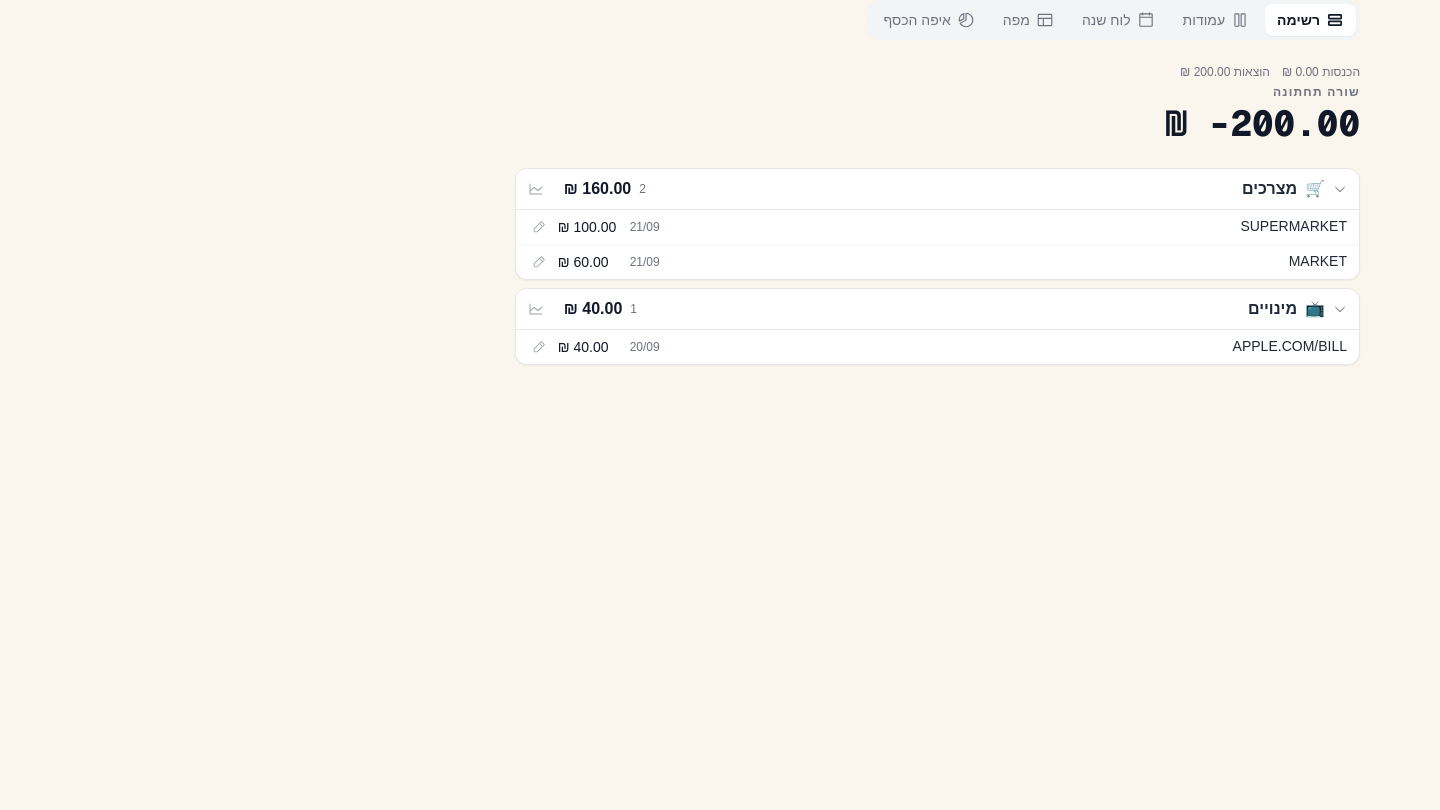
Test: ExpensesExplorer hidden expenses › lists hidden rows with their sum
Step 1. Click the text "SUPERMARKET" → (1294, 226), box [1240, 218, 1347, 234]
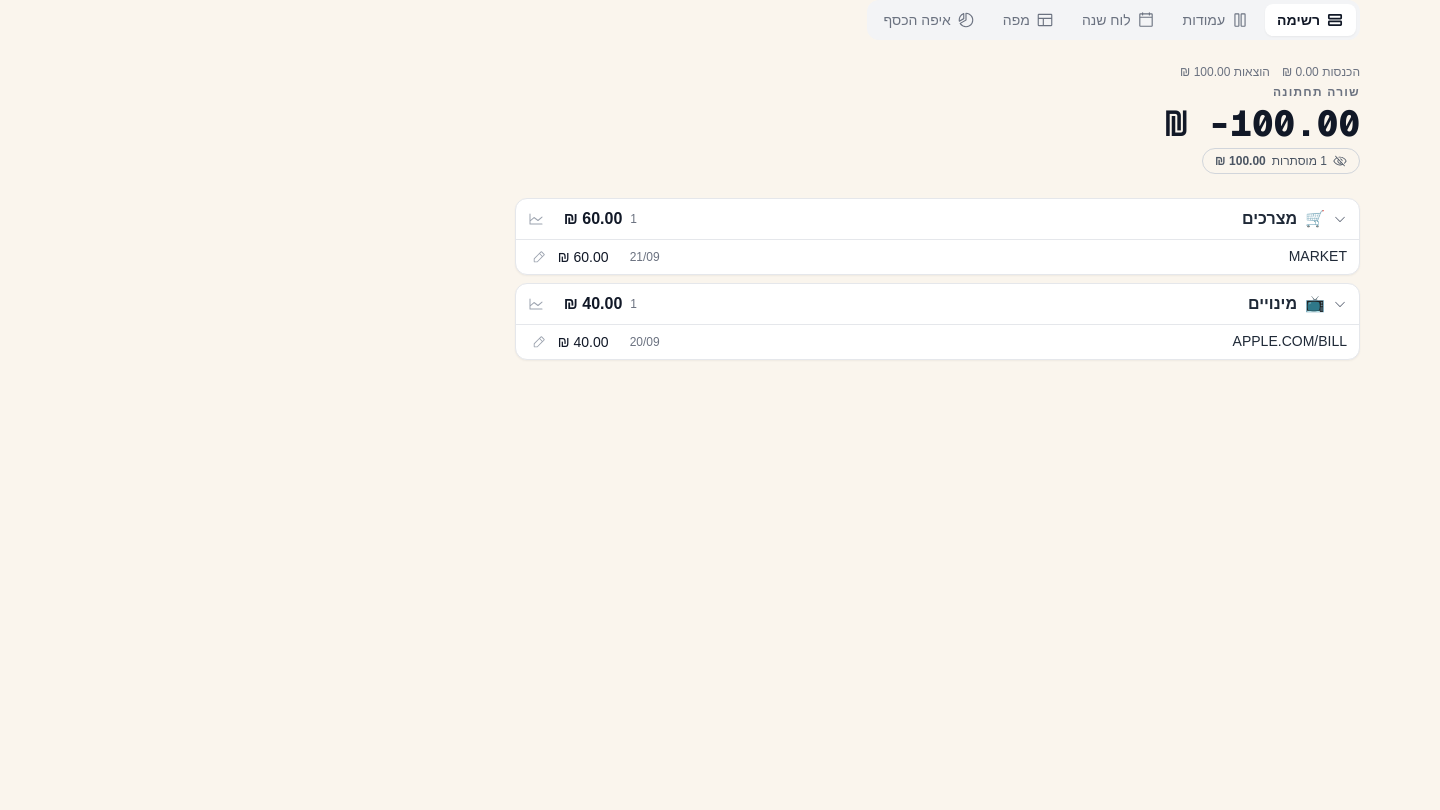
Step 2. Click the text "APPLE.COM/BILL" → (1290, 341), box [1233, 333, 1347, 349]
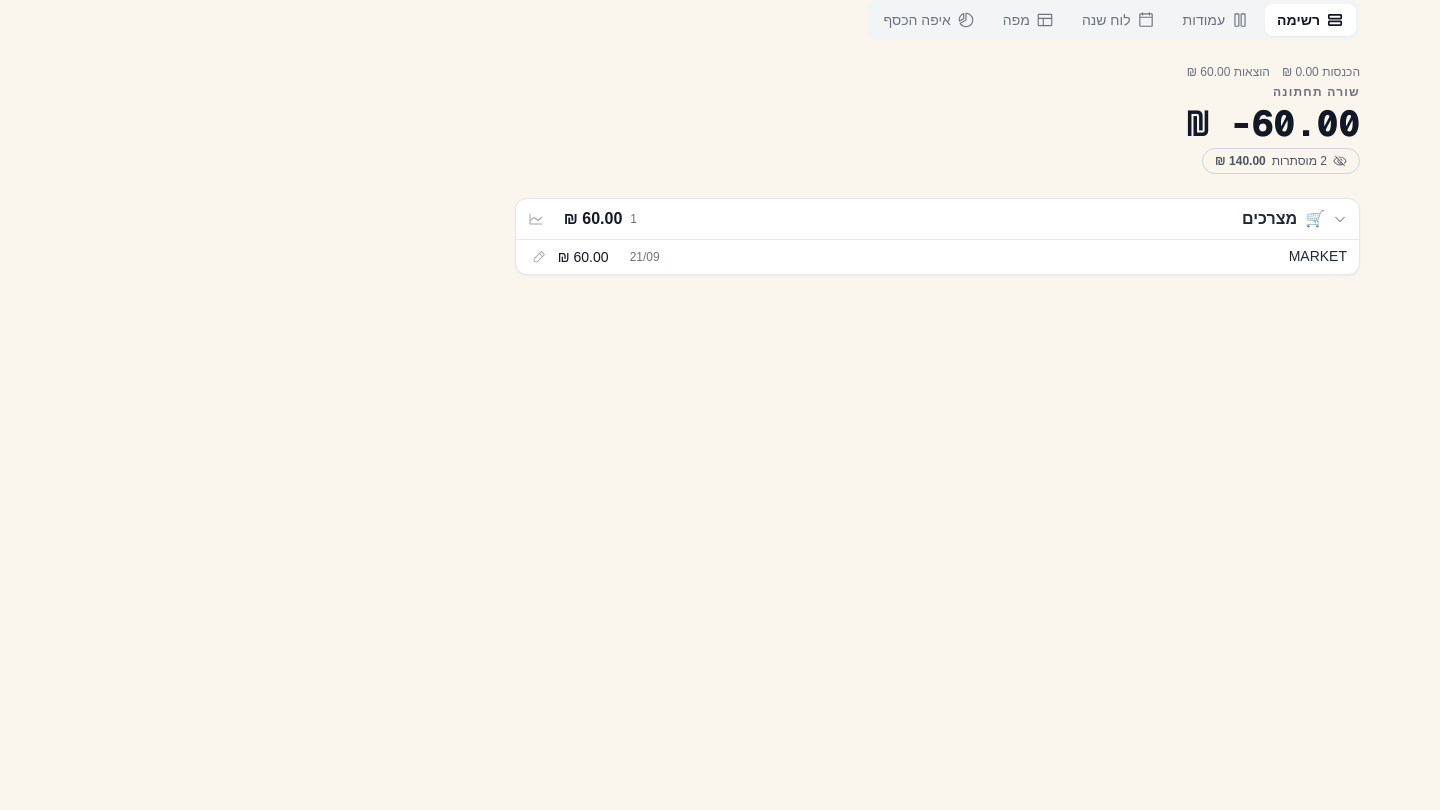
Now the button "2 מוסתרות 140.00 ₪" is shown
Step 3. Click the button "2 מוסתרות 140.00 ₪" → (1281, 161), box [1202, 148, 1360, 174]
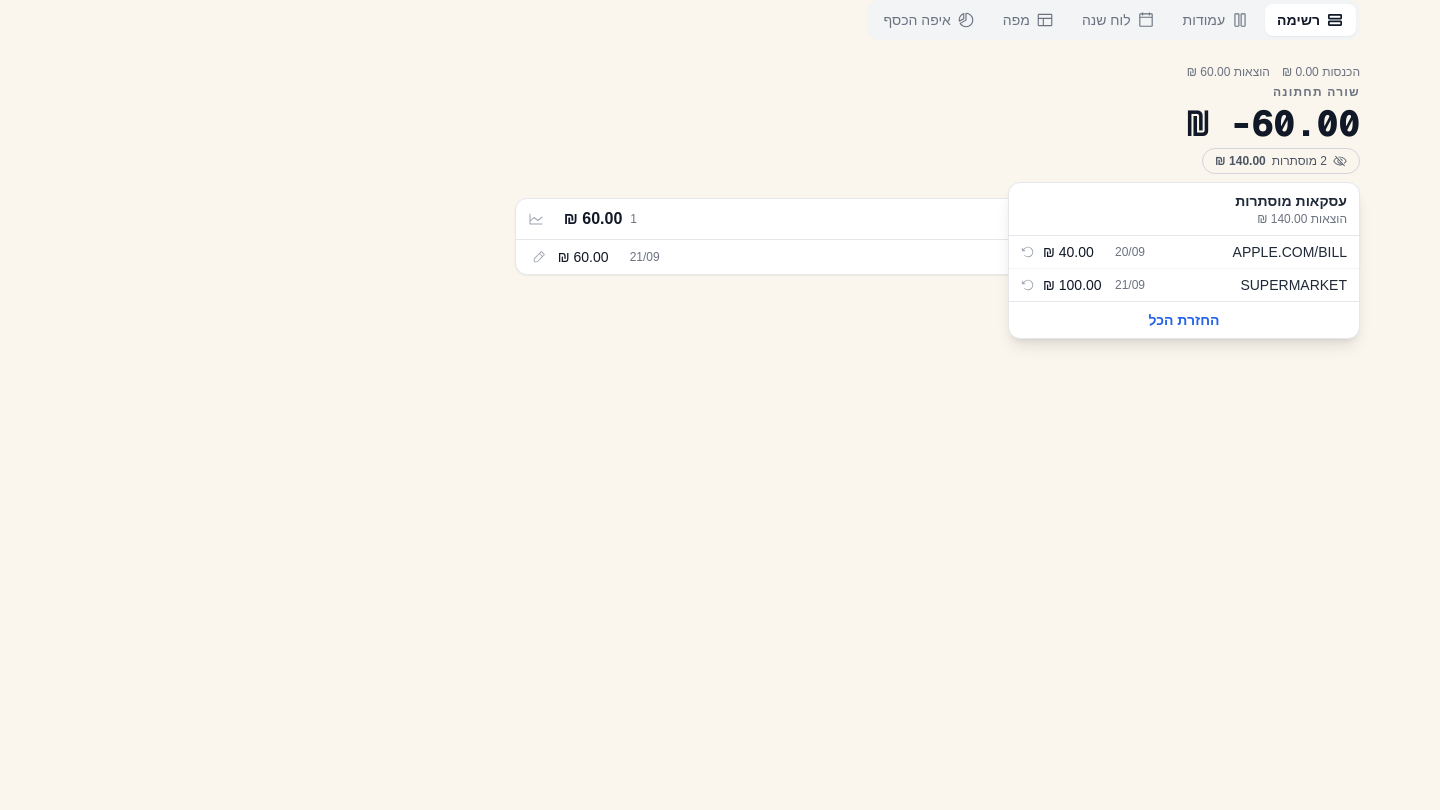
Now the text "SUPERMARKET" is shown, box [1240, 277, 1347, 293]
Now the text "APPLE.COM/BILL" is shown, box [1233, 244, 1347, 260]
